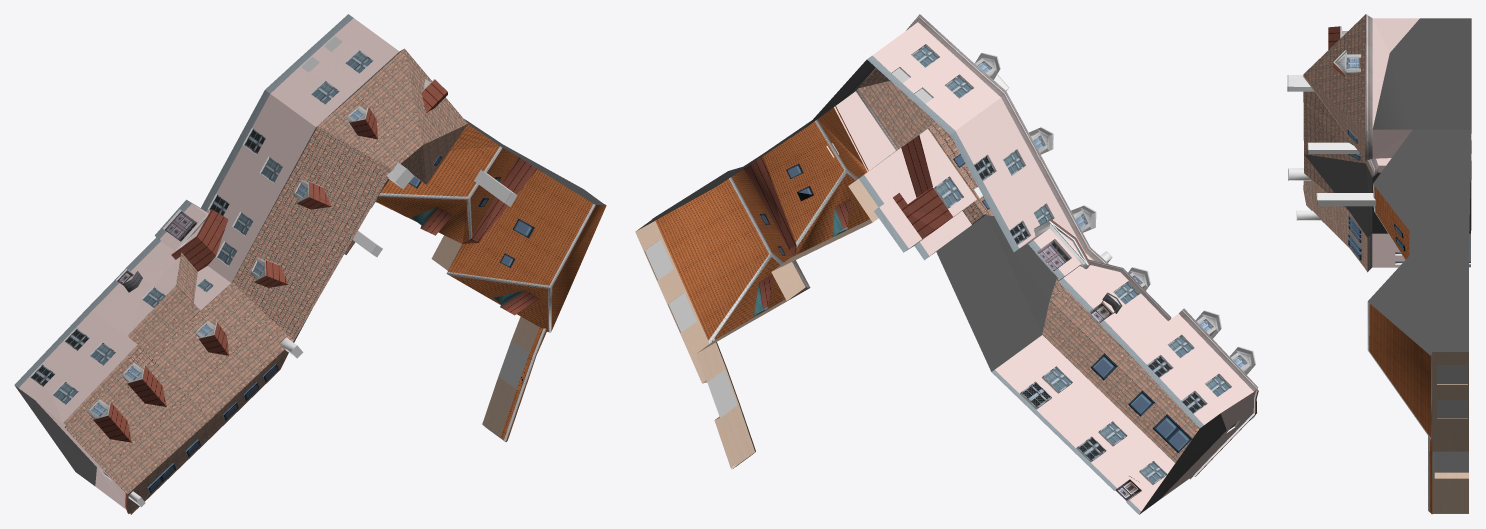
Rendered from Toom-Ryytli-4.obj.
3 views of the same model, side by side, from view 1: azimuth 30°, elevation 25°; view 2: azimuth 150°, elevation 25°; view 3: azimuth 270°, elevation 25° (orthographic). The views are drawn at different scales.
Parts seen in each view (by area): view 1: Toom_Ryytli_4; view 2: Toom_Ryytli_4; view 3: Toom_Ryytli_4.
Part boxes in pixels (x1=…): Toom_Ryytli_4: x1=14, y1=14, x2=606, y2=514; Toom_Ryytli_4: x1=635, y1=14, x2=1258, y2=514; Toom_Ryytli_4: x1=1287, y1=14, x2=1471, y2=514.
Bounding box in the file's own units: 49.83 × 37.36 × 14.29.
